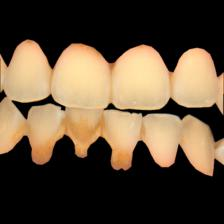cavity: (69, 121, 99, 157), (112, 149, 133, 171), (32, 147, 52, 164), (22, 122, 33, 137), (168, 71, 176, 89), (109, 62, 116, 71)
tooth: (53, 38, 111, 106), (116, 45, 168, 109), (169, 44, 215, 112), (7, 35, 50, 102), (104, 108, 144, 174), (182, 115, 221, 178), (64, 106, 107, 159), (142, 113, 183, 168), (27, 103, 63, 165), (1, 97, 25, 154)
